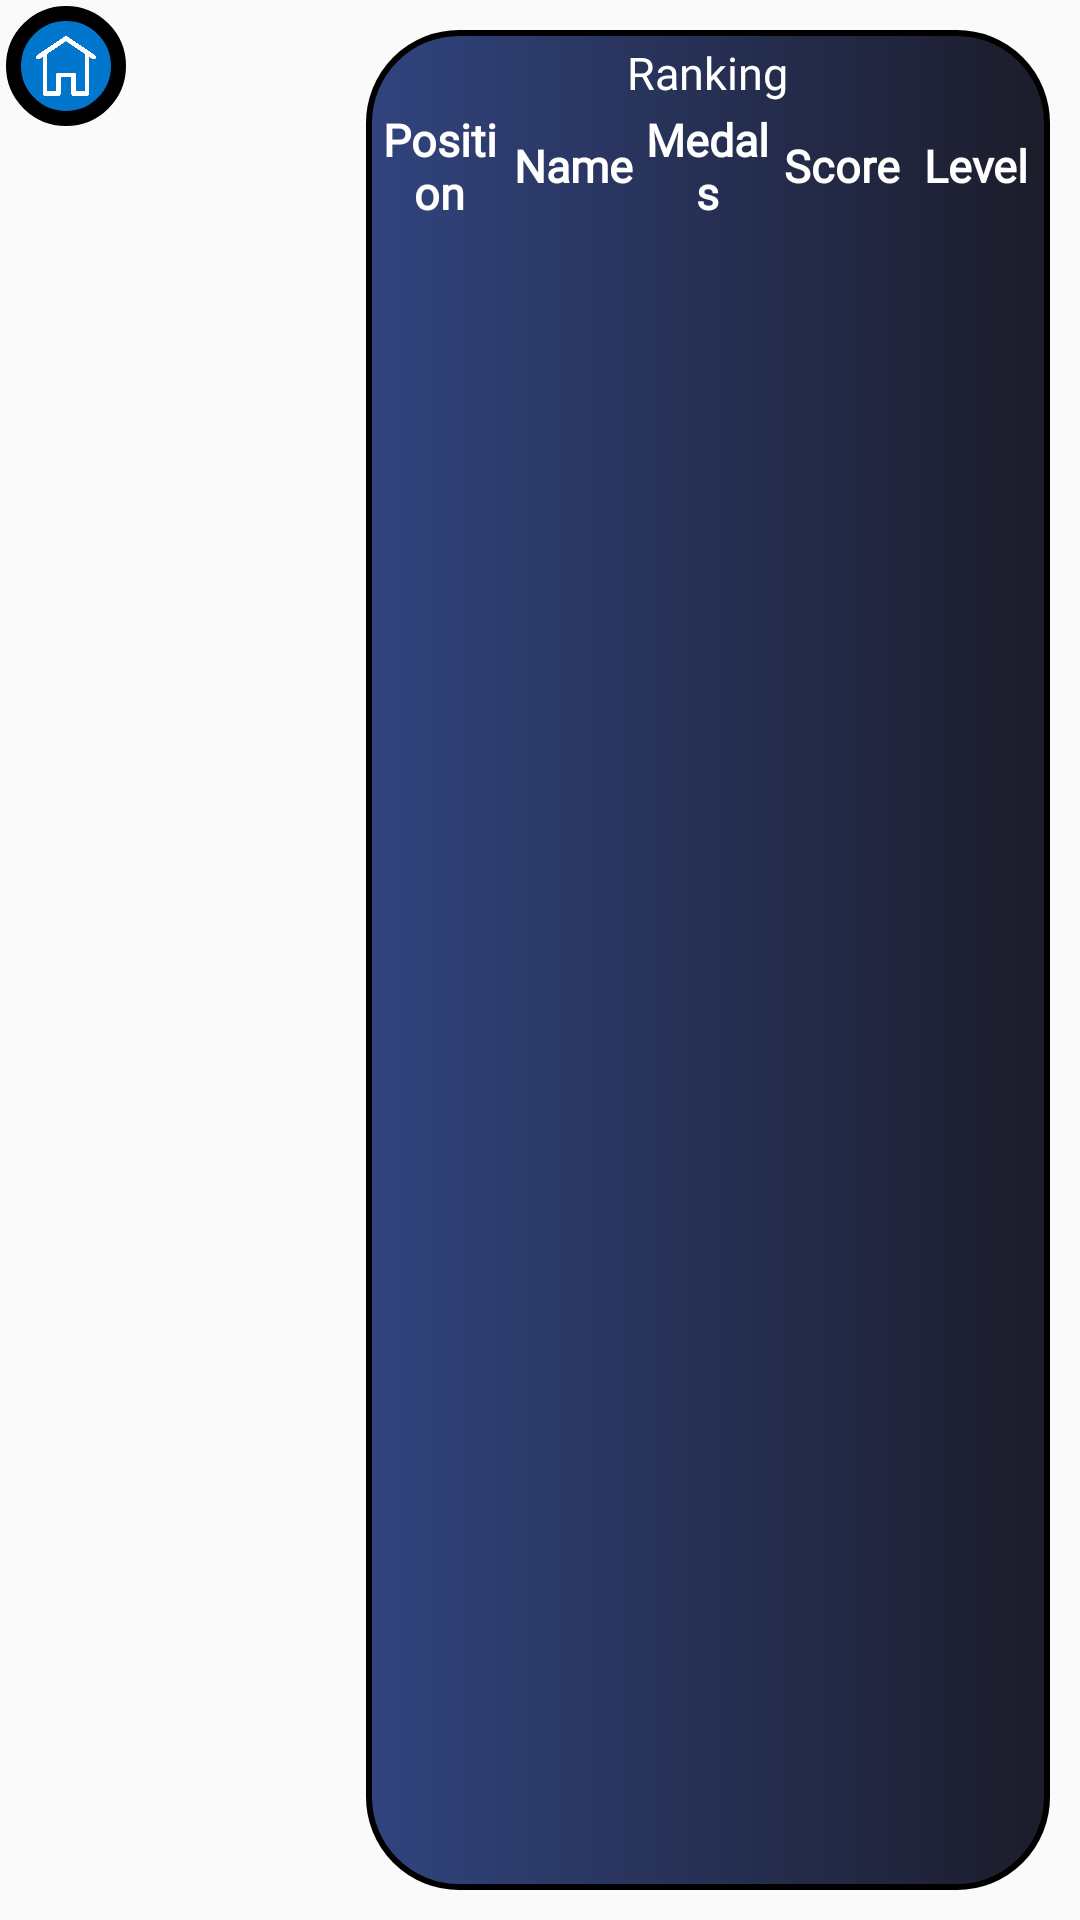

Named icons in this screenshot (1080 × 1920) and their centers, (x,y):
home: (66,66)
